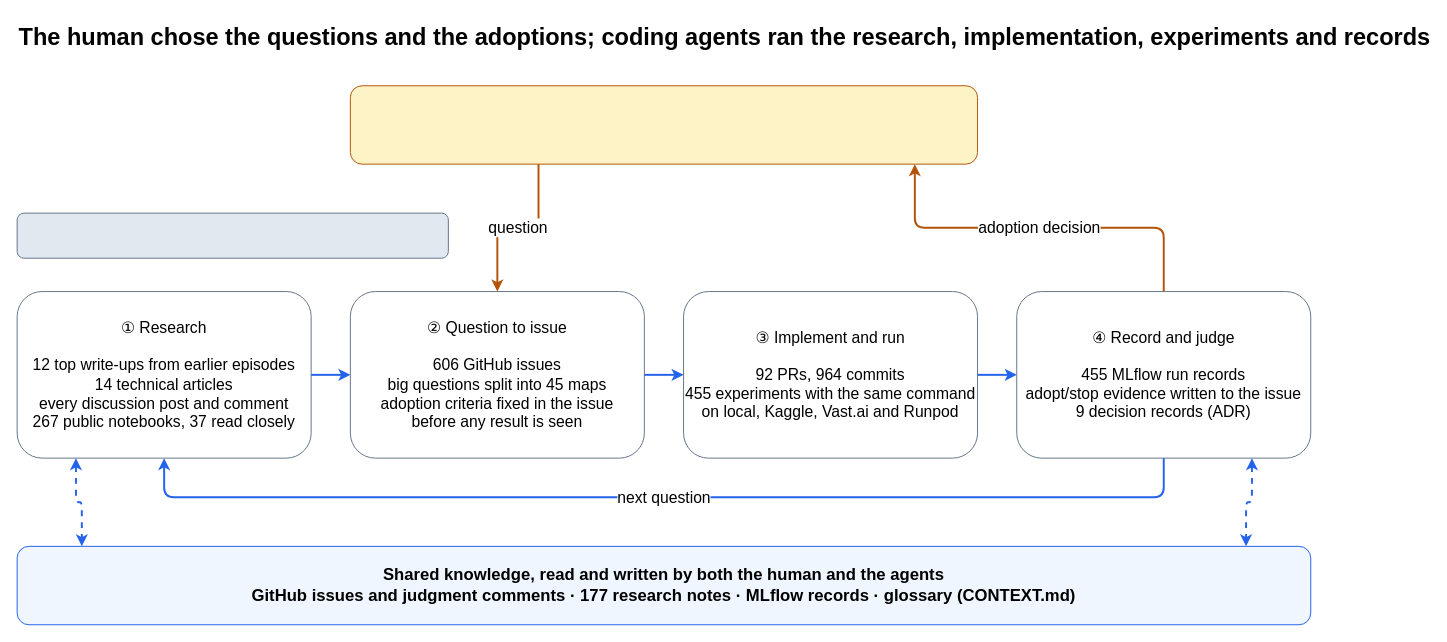
Image size: 1447x642. Some labels were removed from this diagram. The centre of each missing label's shape, as x and y in pixels:
Claude Code · Codex run the four steps below: (232,235)
Human decide what to test · decide what to adopt · final approval: (663,124)
